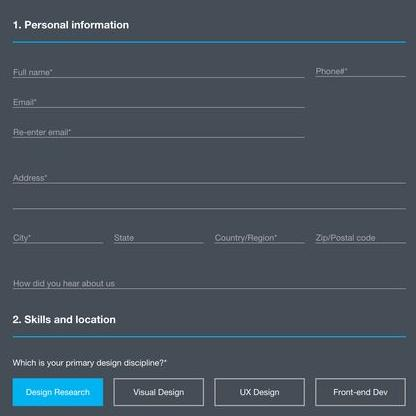button: (10, 377, 105, 407), (112, 377, 204, 407), (212, 378, 306, 407), (314, 378, 407, 407)
field_line: (11, 274, 407, 291), (11, 173, 407, 187), (10, 125, 308, 140), (10, 96, 307, 110), (10, 66, 306, 80), (10, 229, 105, 245), (112, 229, 206, 245), (212, 229, 306, 245), (314, 229, 407, 245), (314, 65, 406, 78)
